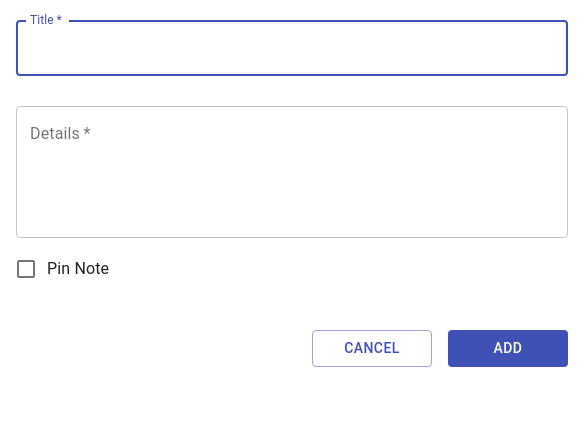
Test case: AddNote component › shows required validation messages
Step 1. Click the button "Add" → (508, 348), box x1=448 y1=330 x2=568 y2=366
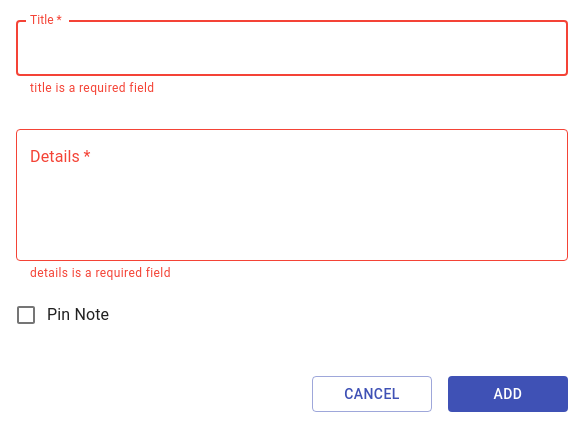
Expected: the text "title is a required field" is shown, x1=30 y1=81 x2=154 y2=95
Expected: the text "details is a required field" is shown, x1=30 y1=266 x2=171 y2=280
Step 2. Type "some title" into the field labelled "Title *" → (292, 48), box x1=16 y1=20 x2=568 y2=76
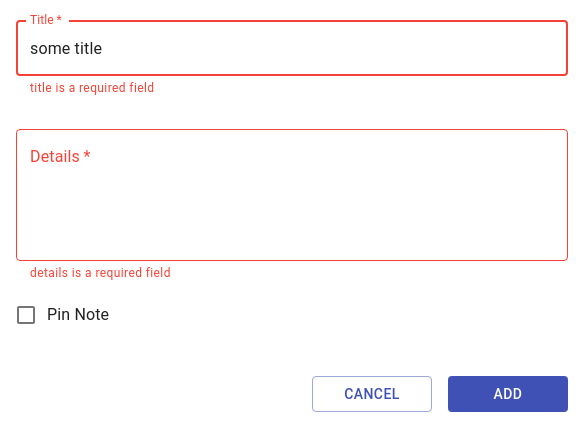
Step 3. Click the button "Add" → (508, 394), box x1=448 y1=376 x2=568 y2=412
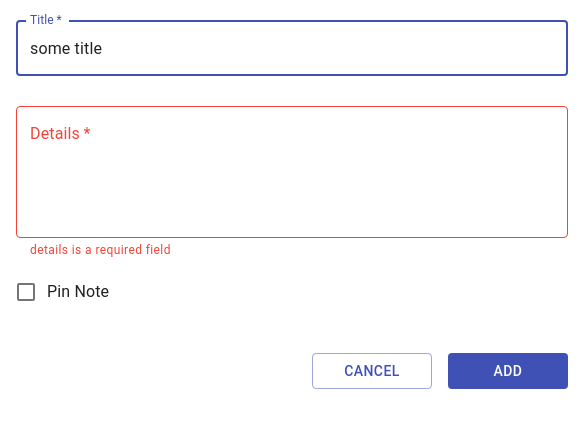
Expected: the text "details is a required field" is shown, x1=30 y1=243 x2=171 y2=257
Expected: the text "title is a required field" is gone
